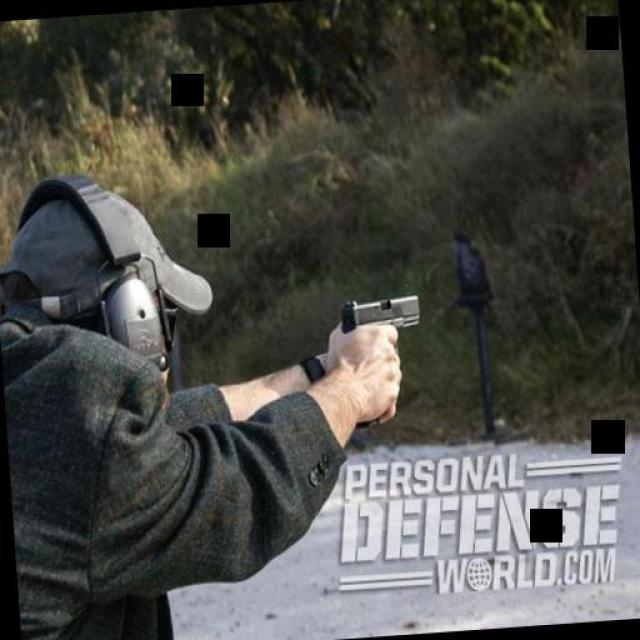gun: (340, 287, 426, 428)
